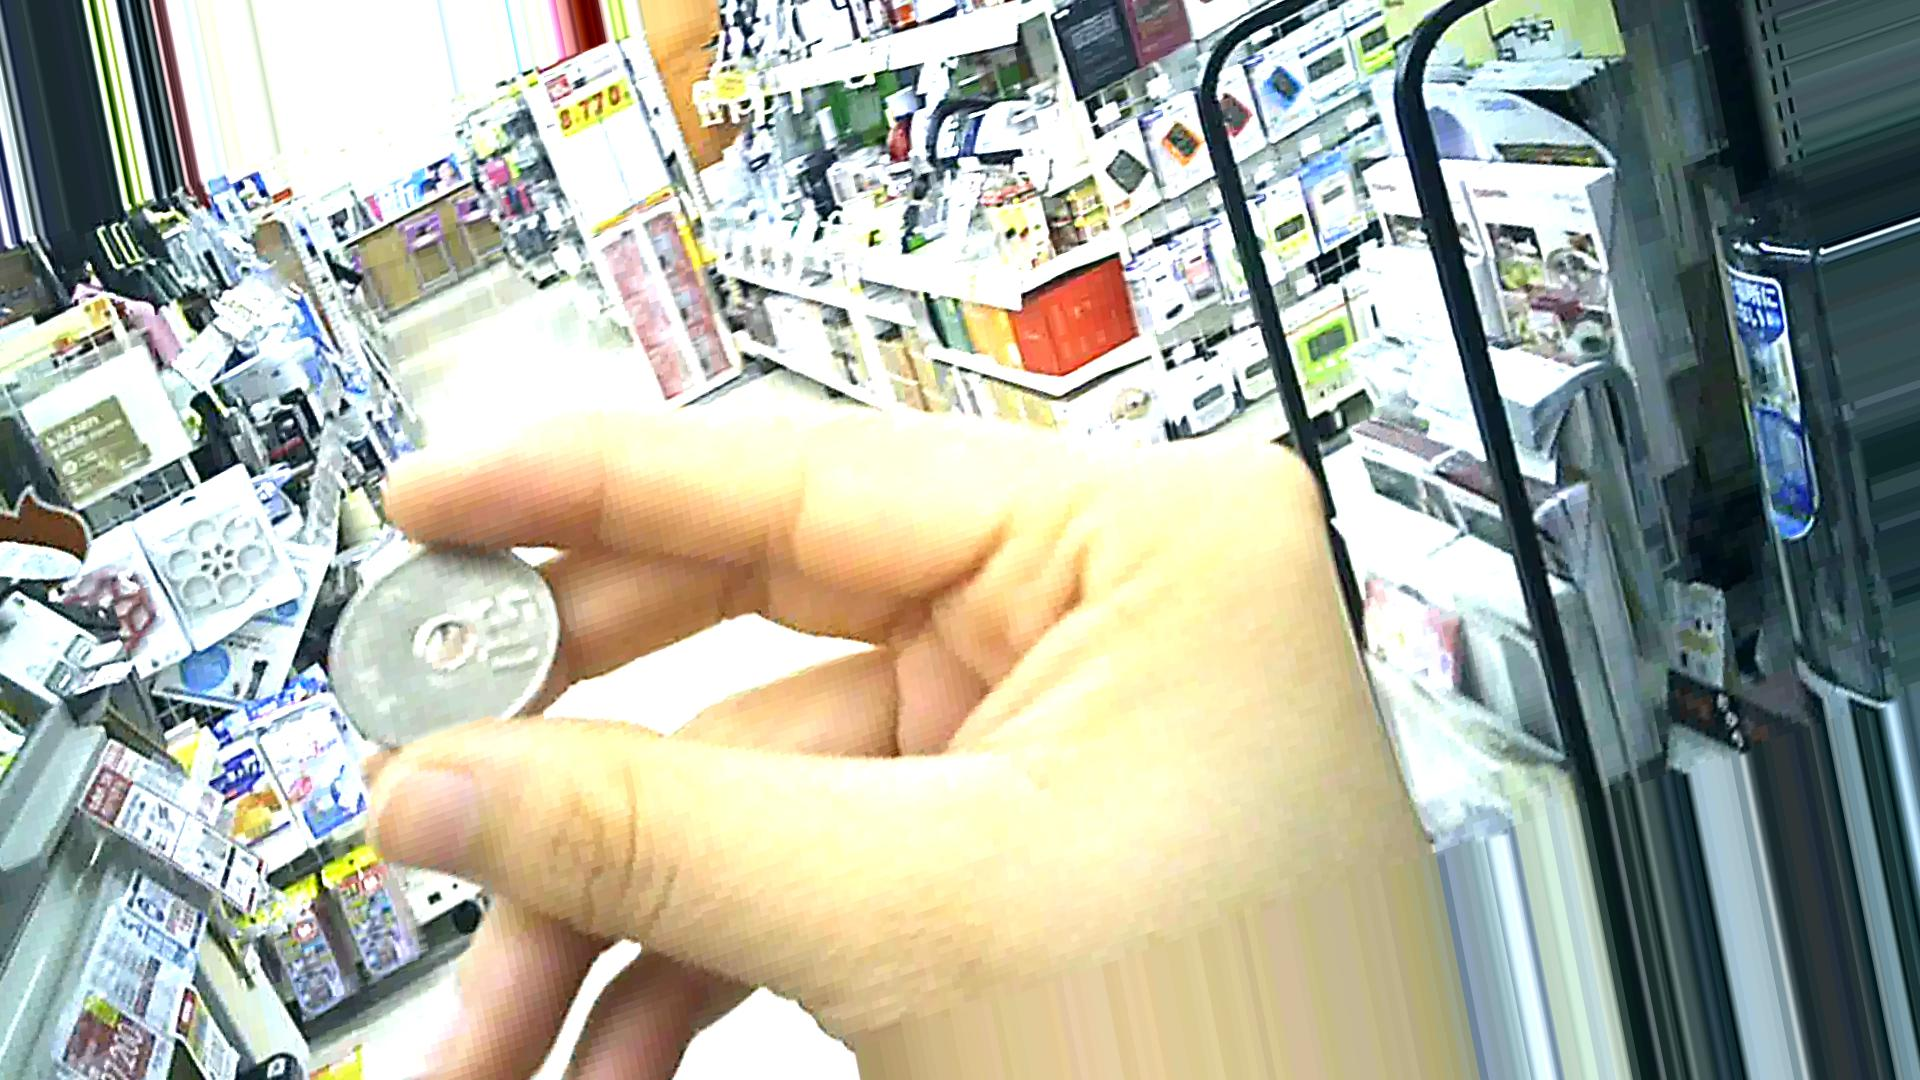50 Yen: (315, 527, 579, 765)
